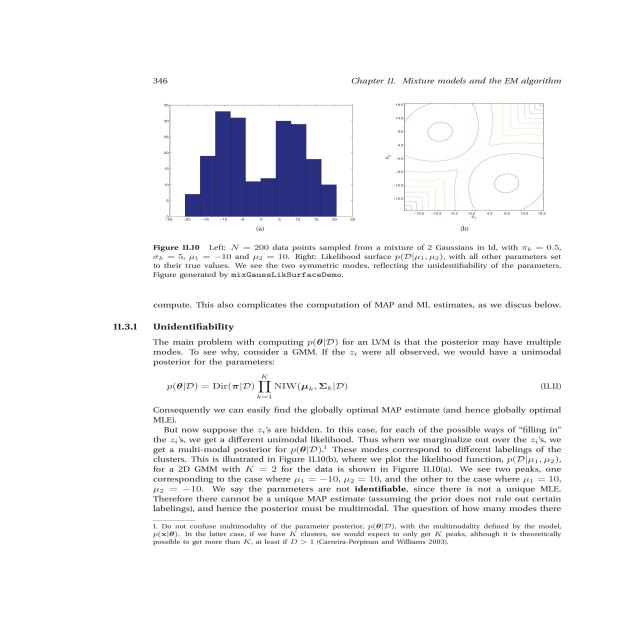diagram: (99, 85, 640, 278)
